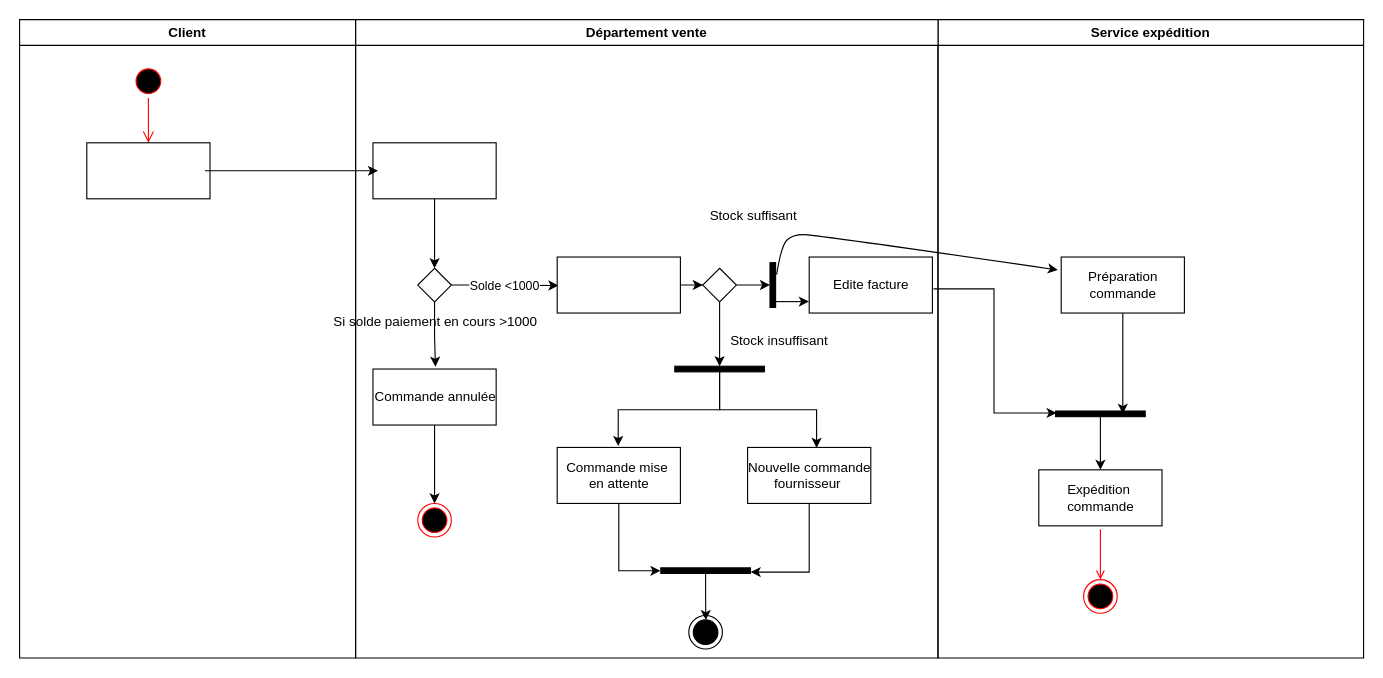
Some shapes in this 1383 by 678 pixel diagram are drawn without their labels. The shapes that lost their labels are listed below. From the top down, each one's centre as x and y in pixels, then its label:
the point at 148,170: Enregistre commande
the point at 434,170: Verification commande
the point at 618,284: Verification stock
